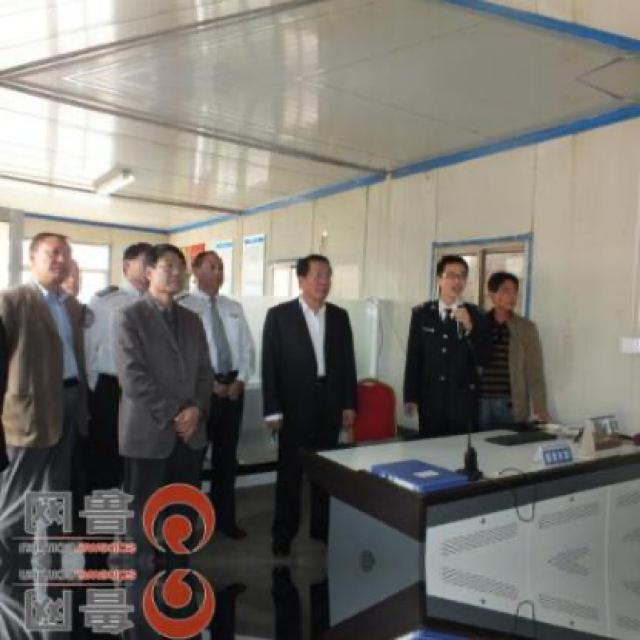sin casco: (18, 226, 97, 297), (283, 243, 351, 314), (455, 262, 543, 312), (141, 240, 212, 301), (183, 244, 247, 297), (435, 253, 470, 311)
